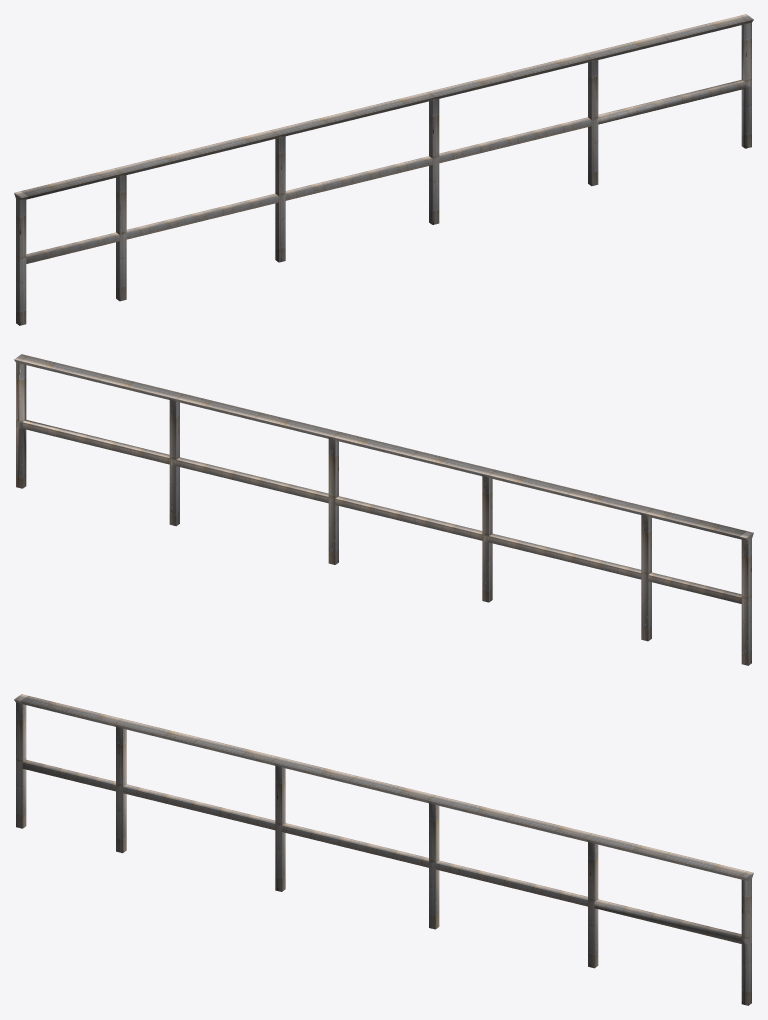
The model's file is M11B_Railing07_A.glb.
The picture shows the model from 3 angles, top to bottom: view 1: azimuth 30°, elevation 25°; view 2: azimuth 150°, elevation 25°; view 3: azimuth 330°, elevation 25°; orthographic projection.
Visible parts, largest first — view 1: M11B_RAILING07_A; view 2: M11B_RAILING07_A; view 3: M11B_RAILING07_A.
Boxes of the visible parts, bbox=[...] form: M11B_RAILING07_A: bbox=[14, 14, 753, 325]; M11B_RAILING07_A: bbox=[14, 354, 753, 665]; M11B_RAILING07_A: bbox=[14, 694, 753, 1005].
Size of the model in its own units: 6.95 by 1.17 by 0.124.
1 material, 1 textured.
